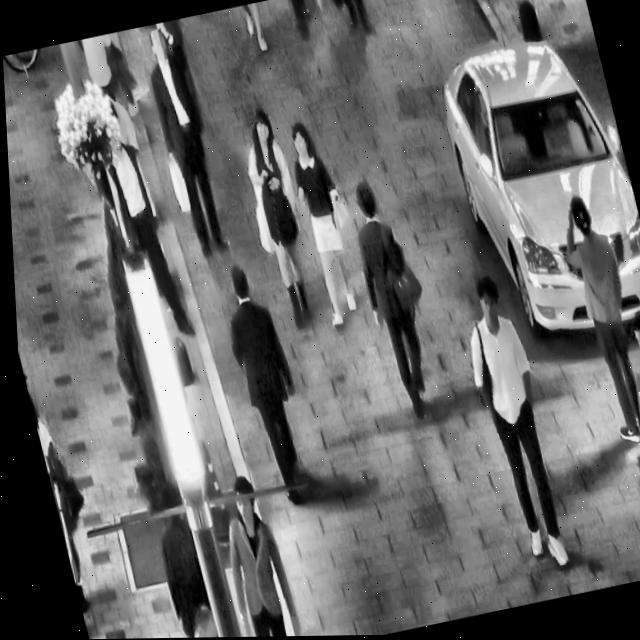light_vehicle: (419, 10, 640, 362)
